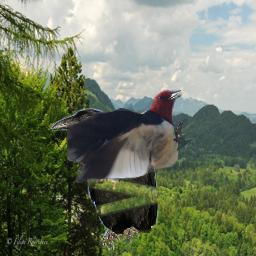Crow: (50, 108, 160, 250)
Woodpecker: (67, 85, 194, 183)
